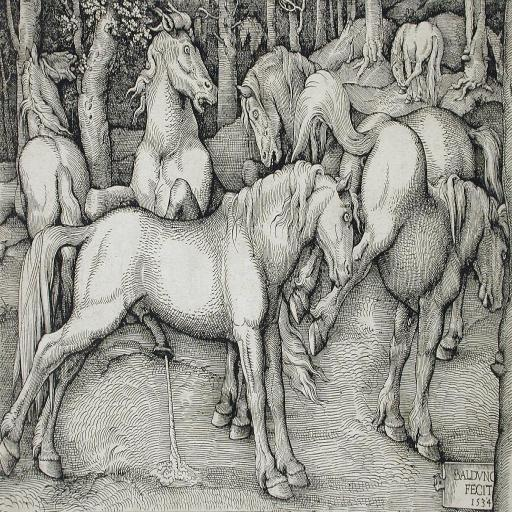horse: (0, 0, 509, 502)
